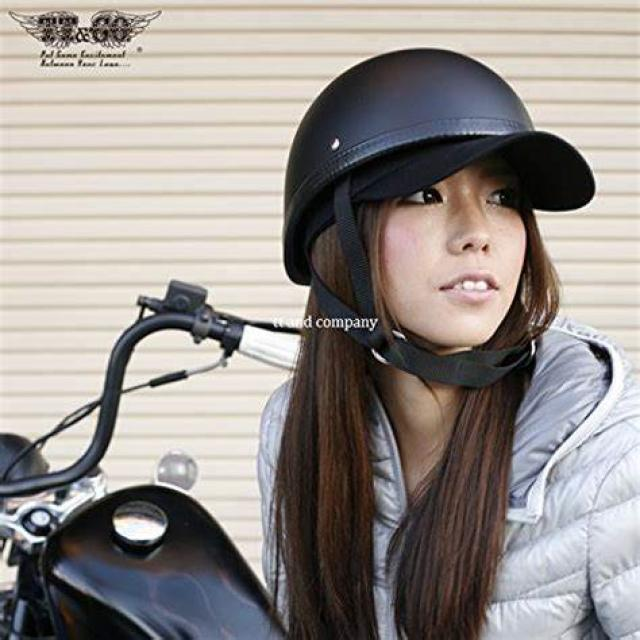illegal_helmet: (270, 41, 601, 359)
